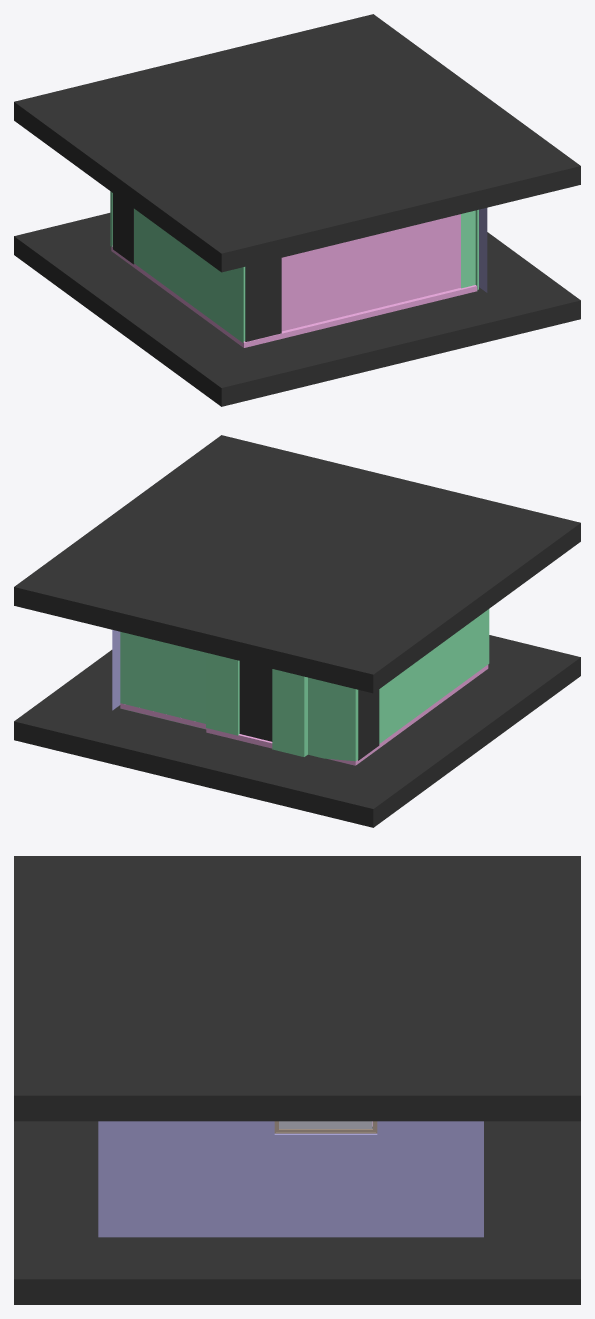
Rendered from Tesla.fbx.
3 views of the same model, one above another, from view 1: azimuth 30°, elevation 25°; view 2: azimuth 150°, elevation 25°; view 3: azimuth 270°, elevation 25° (orthographic). The views are drawn at different scales.
Parts seen in each view (by area): view 1: Floor2, Floor, BLDG_Object375_47, BLDG_Object179_31, Cube3, BLDG_A___SLABS027_17, BLDG_Object180_33, Cube_28, BLDG_Object191_39; view 2: Floor2, Floor, BLDG_Object179_31, BLDG_Object182_37, BLDG_Object178_29, BLDG_Box273_25, BLDG_Box274_27, Cube2, BLDG_A___SLABS027_17, Cube_28, BLDG_Object191_39; view 3: Floor2, Floor, BLDG_Object191_39, BLDG_Object217, BLDG_A___WALLS091_21.
Boxes of the visible parts, x1,y1,x2,y2 form: Floor2: (14, 14, 580, 272); Floor: (14, 213, 580, 406); BLDG_Object375_47: (281, 214, 460, 331); BLDG_Object179_31: (110, 191, 243, 343); Cube3: (245, 258, 281, 341); BLDG_A___SLABS027_17: (111, 245, 477, 347); BLDG_Object180_33: (243, 209, 478, 341); Cube_28: (113, 193, 134, 264); BLDG_Object191_39: (479, 208, 487, 292); Floor2: (14, 435, 580, 693); Floor: (14, 635, 580, 827); BLDG_Object179_31: (355, 609, 489, 760); BLDG_Object182_37: (120, 632, 205, 728); BLDG_Object178_29: (308, 677, 355, 761); BLDG_Box273_25: (272, 669, 307, 756); BLDG_Box274_27: (206, 652, 239, 735); Cube2: (239, 661, 272, 741); BLDG_A___SLABS027_17: (120, 664, 488, 765); Cube_28: (358, 689, 379, 760); BLDG_Object191_39: (112, 630, 120, 710); Floor2: (14, 856, 580, 1121); Floor: (14, 1121, 580, 1304); BLDG_Object191_39: (98, 1121, 483, 1237); BLDG_Object217: (279, 1121, 372, 1128); BLDG_A___WALLS091_21: (274, 1121, 377, 1133).
Size of what is drawn, in the model's own units: 1000 by 1000 by 407.
